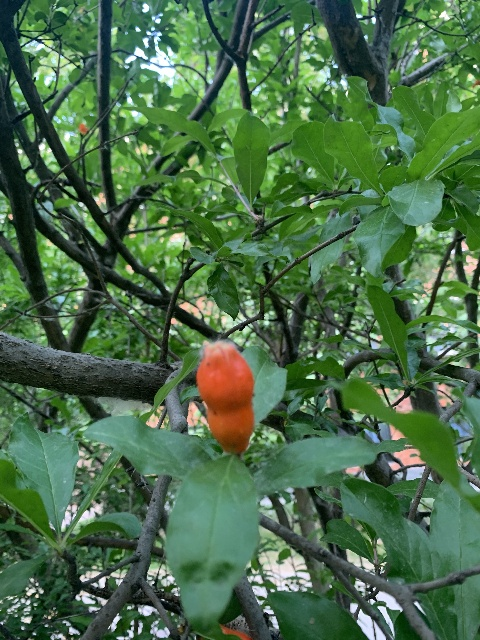bud: (196, 340, 255, 453)
